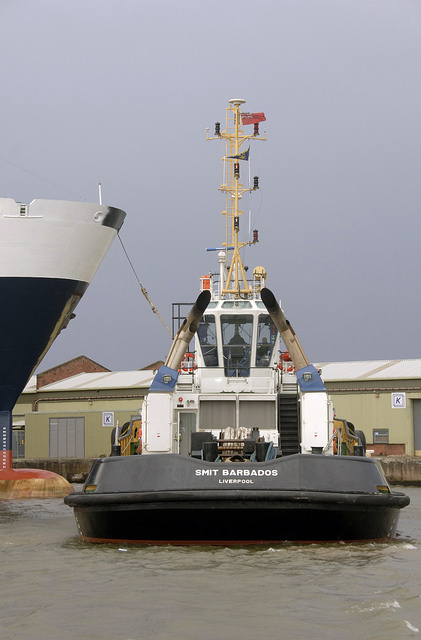tug_boat: (66, 213, 407, 557)
